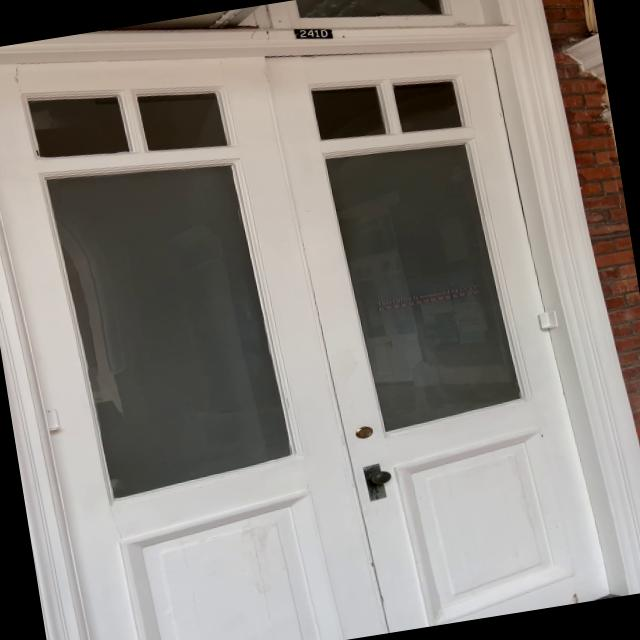room241d: (290, 20, 336, 46)
